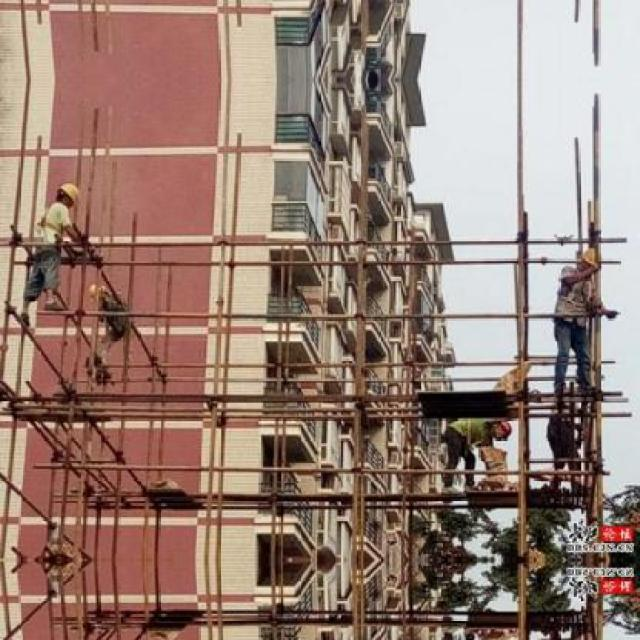helmet: (54, 179, 78, 212), (577, 245, 601, 278), (487, 422, 513, 440)
